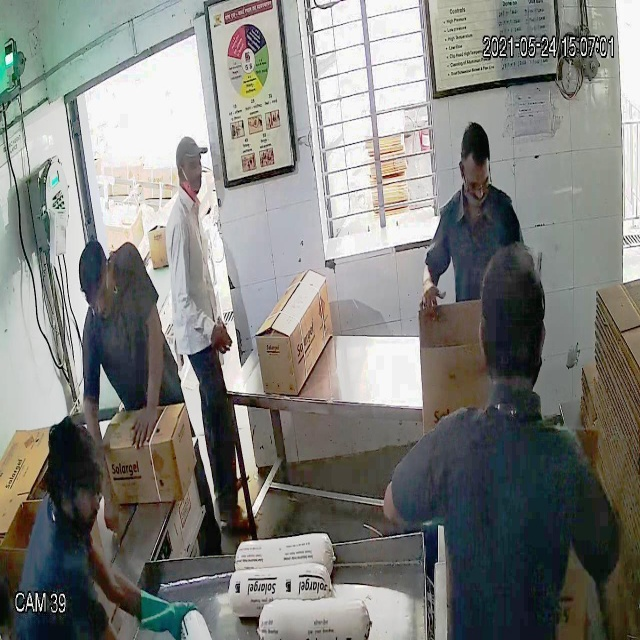Gafas: (458, 165, 497, 201)
